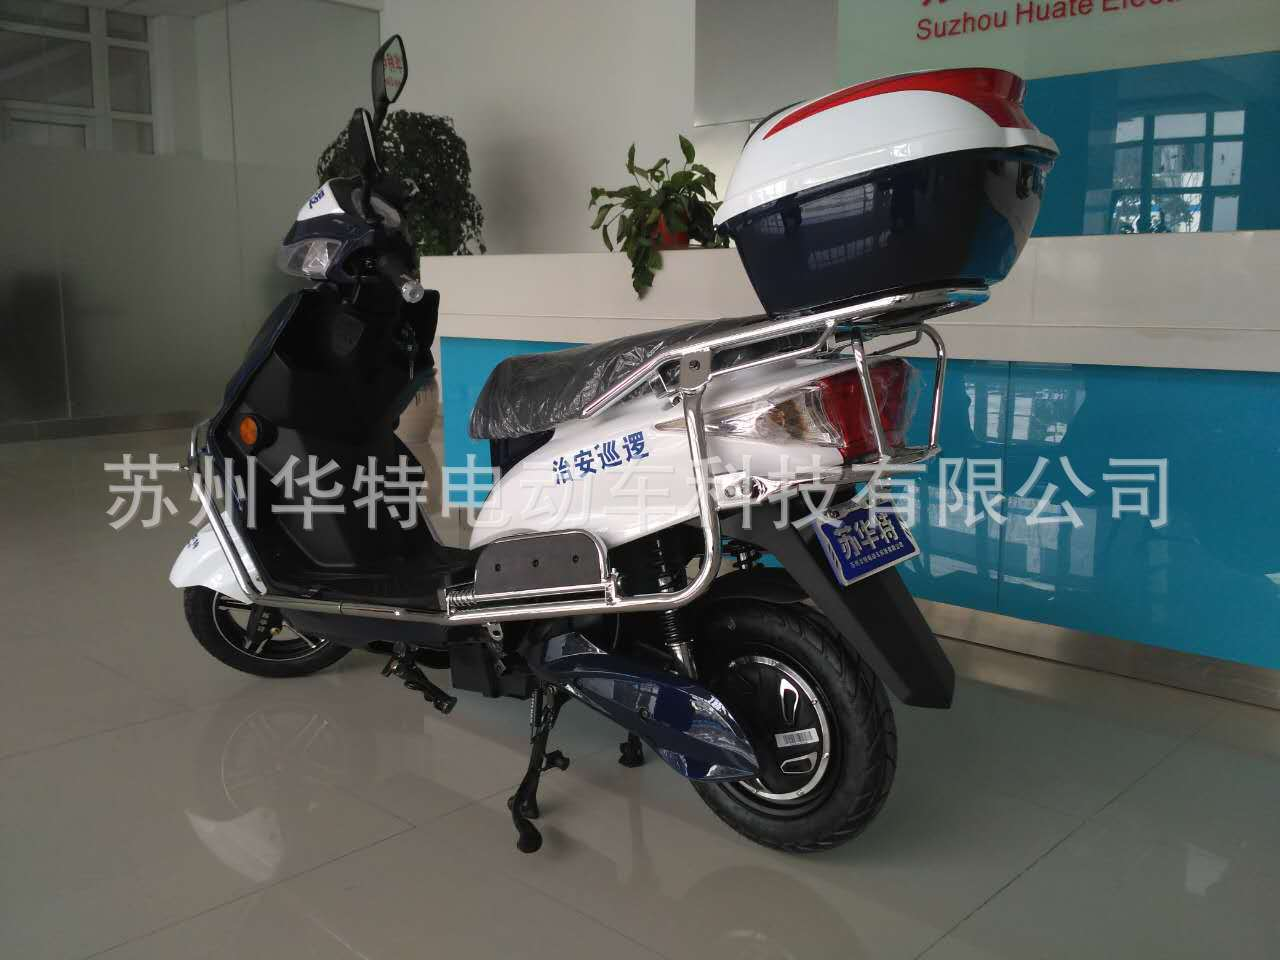电动车: (150, 29, 1064, 873)
